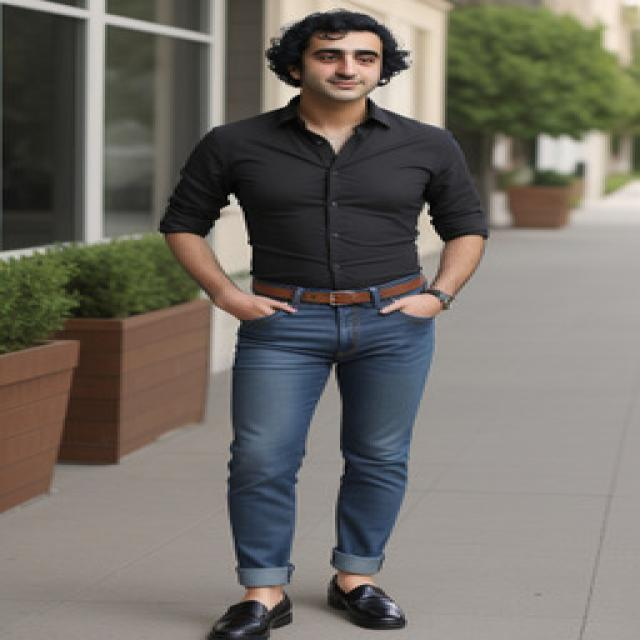Ai human 2: (143, 5, 512, 640)
